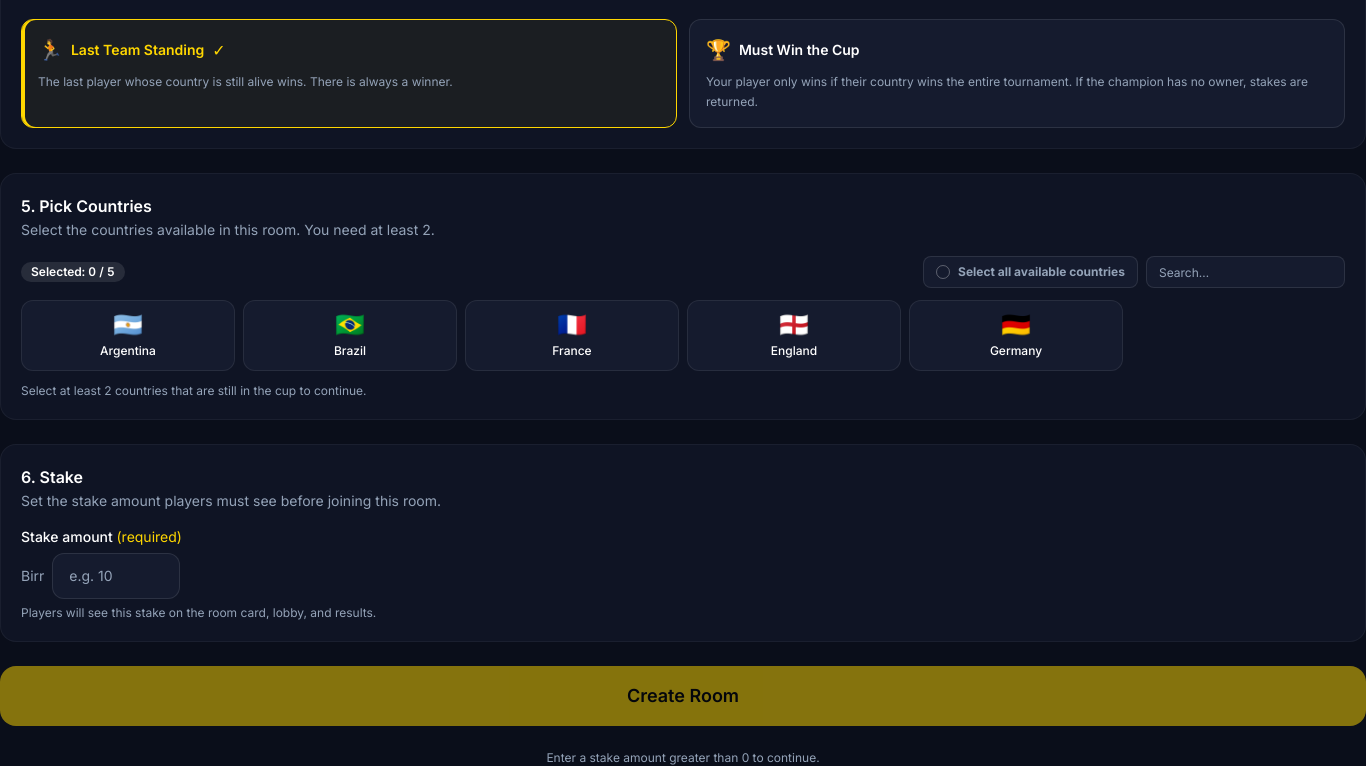
Scenario: CreateRoomForm › submit button becomes enabled after selecting 2 countries
(page scrolled)
Type "10" into the number field labelled "Stake amount (required)". click: (116, 576)
box: [52,553,180,599]
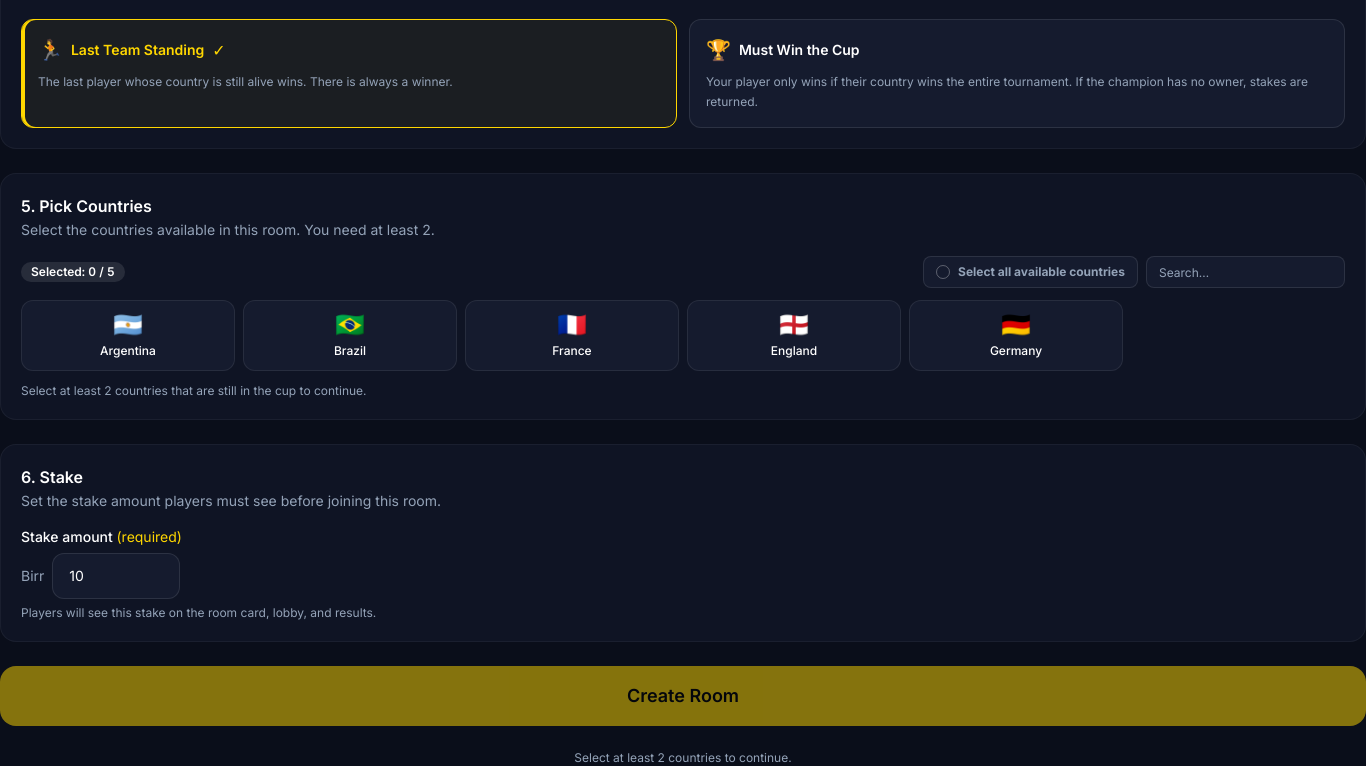
Click the checkbox with test id "country-card-ARG". click: (128, 336)
box: [21,300,235,371]
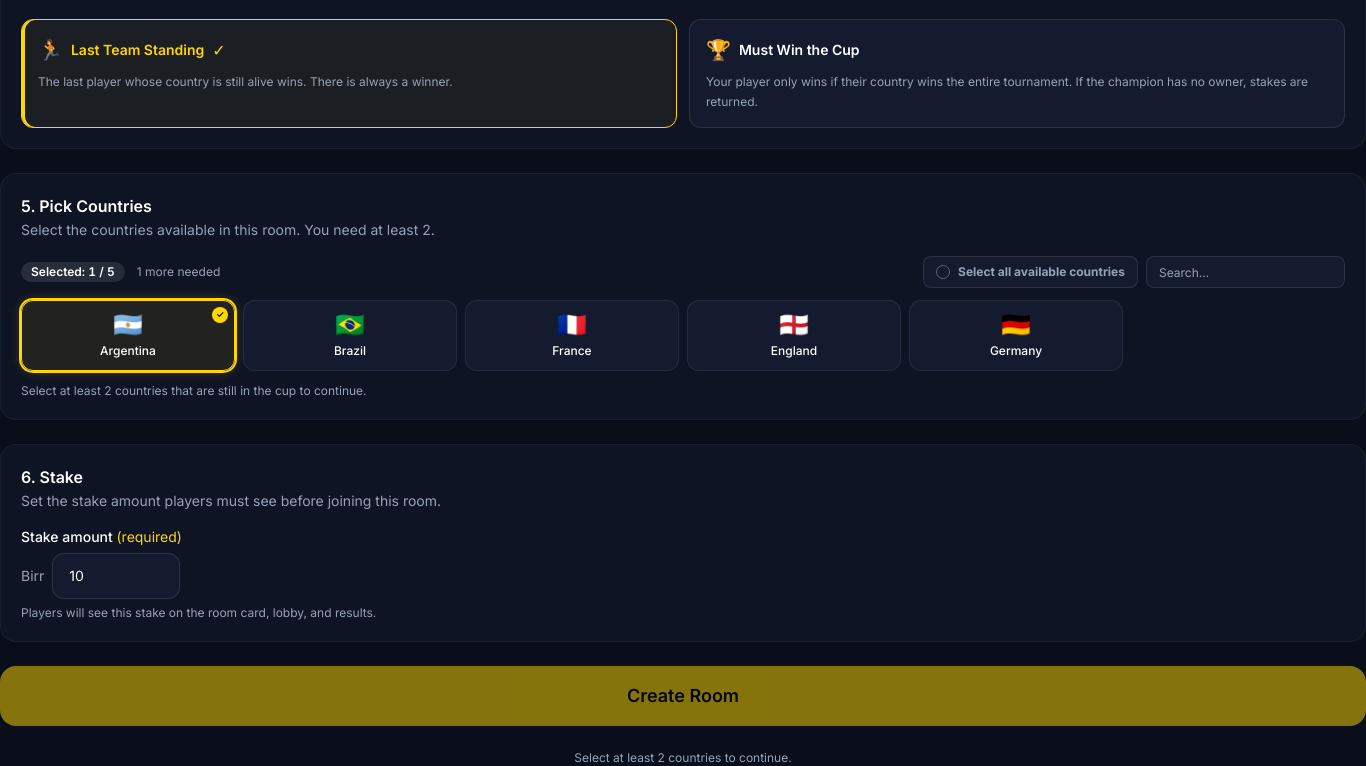
Click the checkbox labelled "🇧🇷 Brazil". click: (350, 336)
box: [243,300,457,371]
(page scrolled)
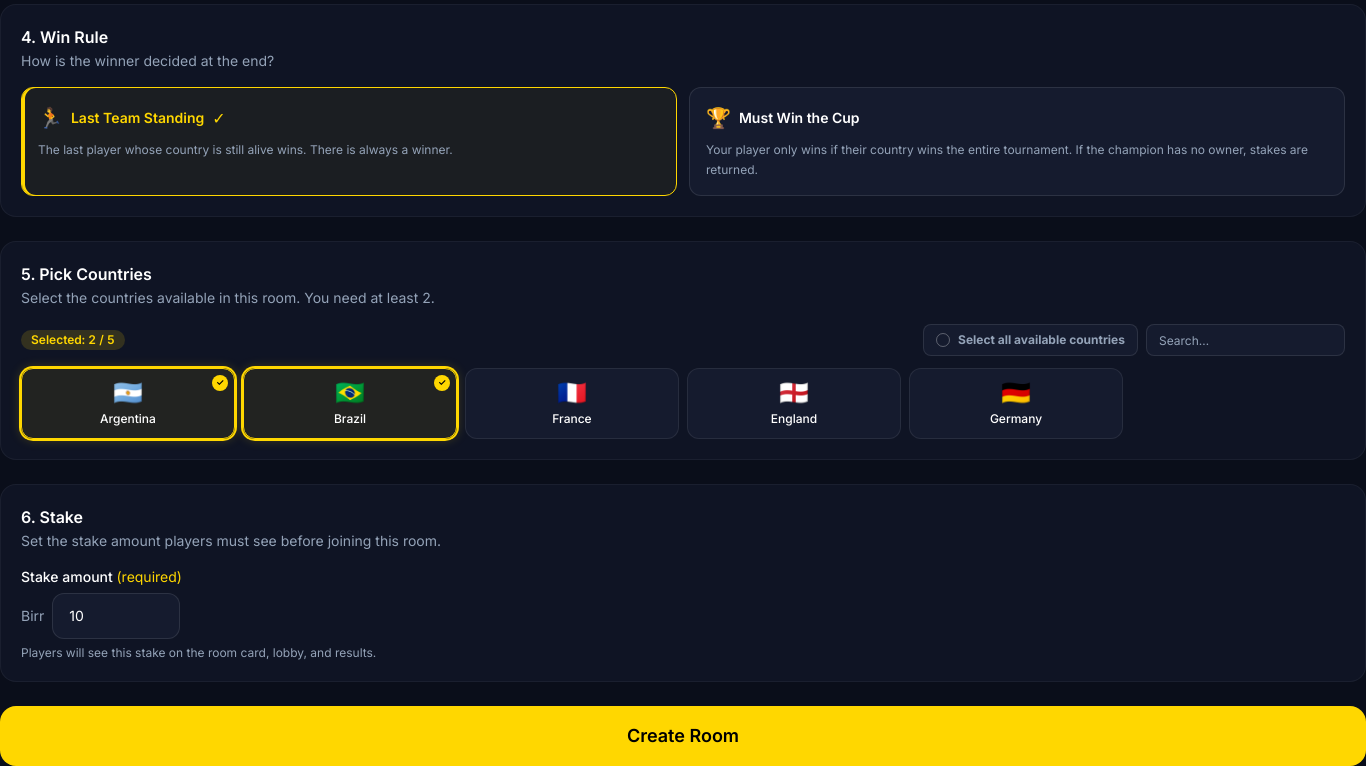
Result: the button with test id "create-room-submit" is enabled at [0,706,1365,765]
